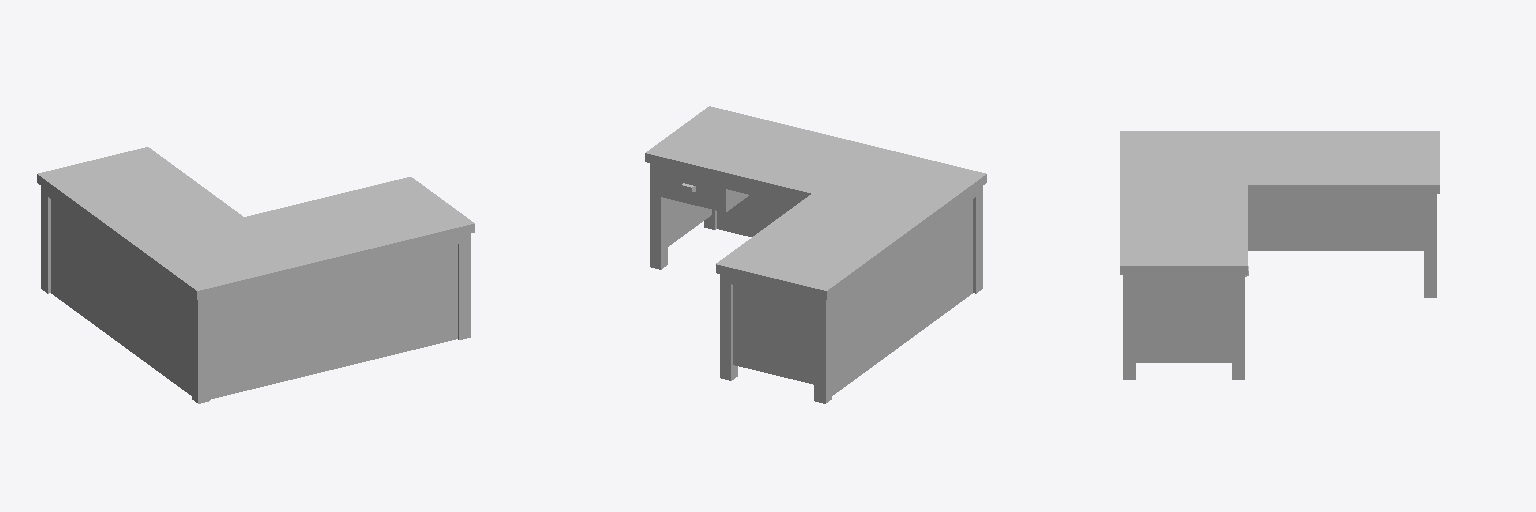
The model's file is deskCorner.obj.
3 views of the same model, side by side, from view 1: azimuth 30°, elevation 25°; view 2: azimuth 150°, elevation 25°; view 3: azimuth 270°, elevation 25° (orthographic).
Visible parts, largest first — view 1: deskCorner; view 2: deskCorner, drawer; view 3: deskCorner.
Boxes of the visible parts, <box> form: deskCorner: <box>37,147,474,403</box>; deskCorner: <box>645,106,986,403</box>; drawer: <box>661,173,716,201</box>; deskCorner: <box>1120,131,1439,379</box>.
Size of the model in its own units: 0.9745 by 0.3844 by 0.9745.